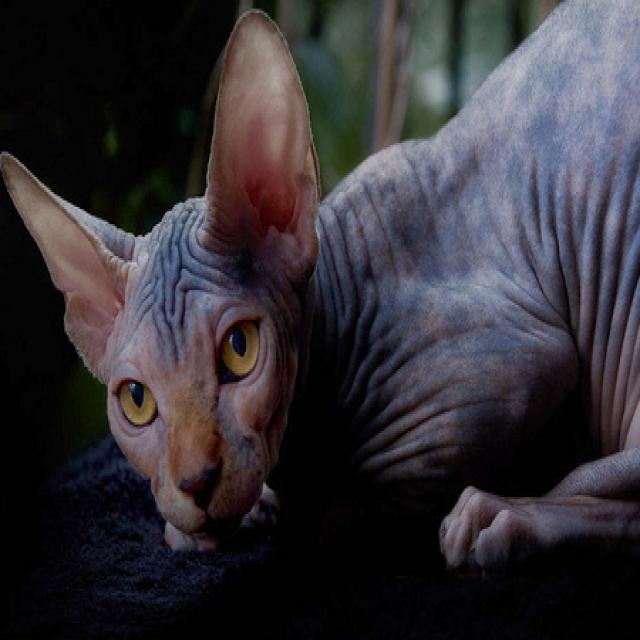Sphynx: (0, 0, 640, 593)
